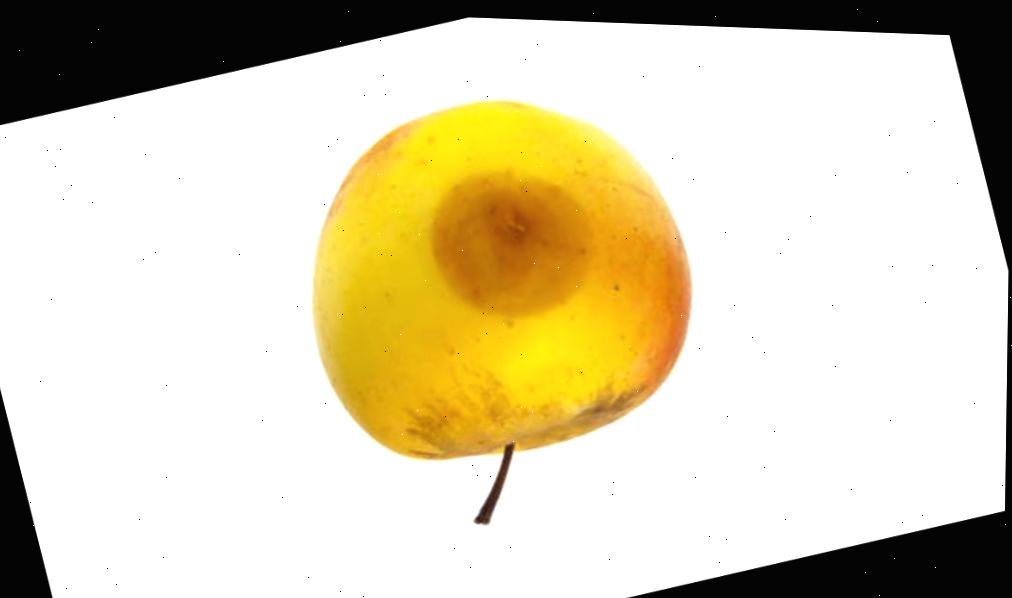ROT: (237, 33, 767, 535)
